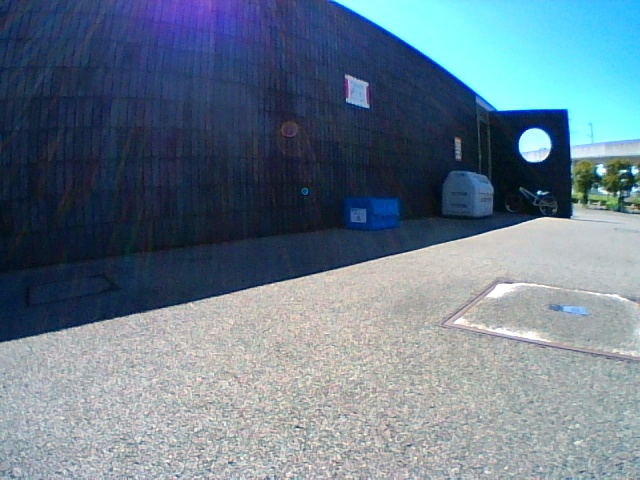blue_box: (345, 197, 398, 229)
tag: (350, 209, 366, 222)
